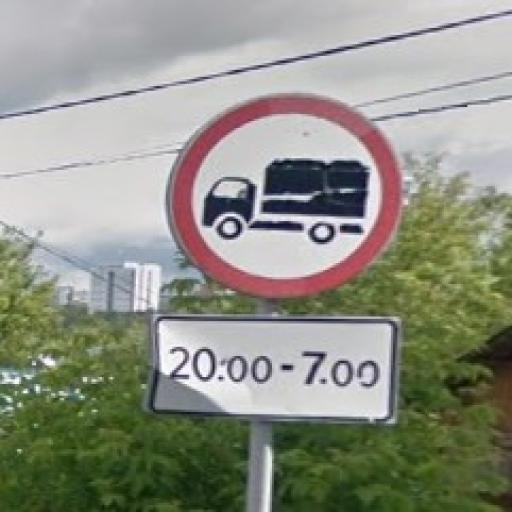traffic_sign: (169, 94, 402, 299)
